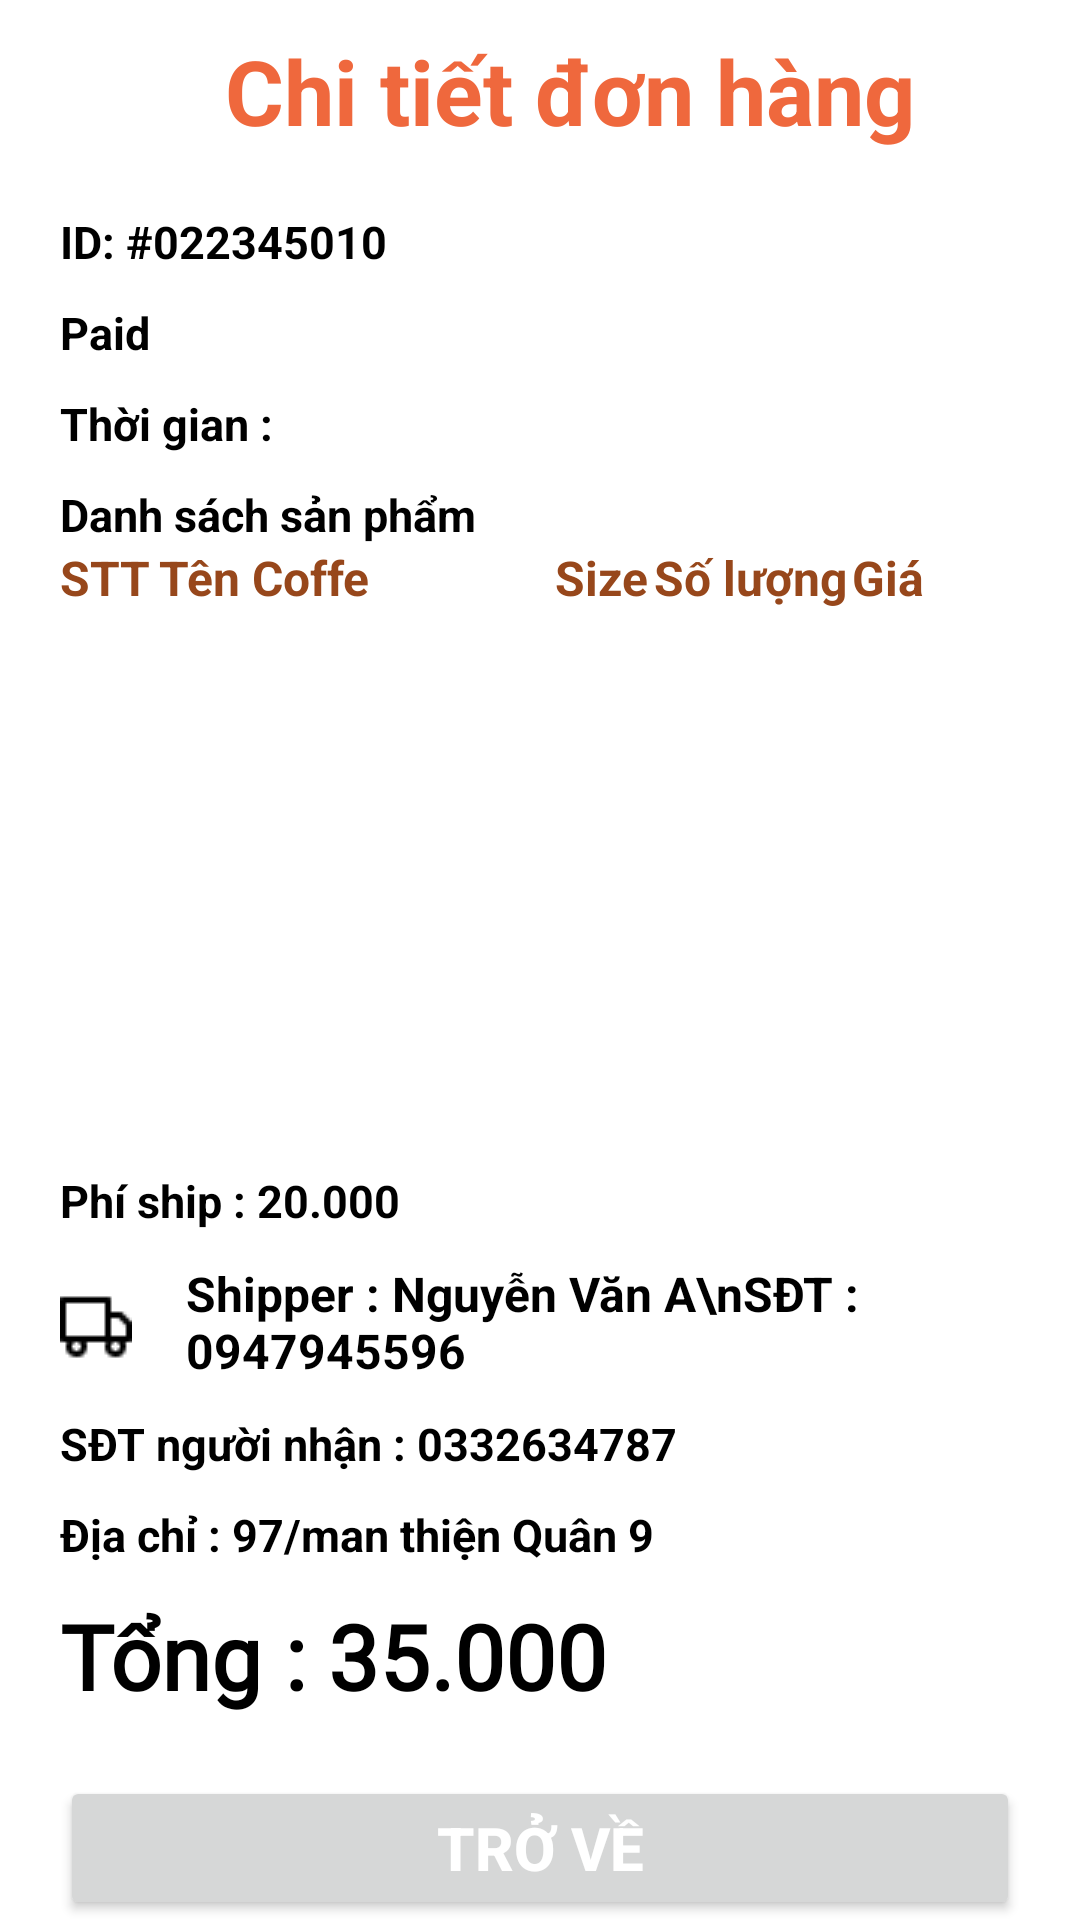

Where to tap for icons on this 1080px x 1920px app screen, as point (x, y):
truck: point (96, 1327)
